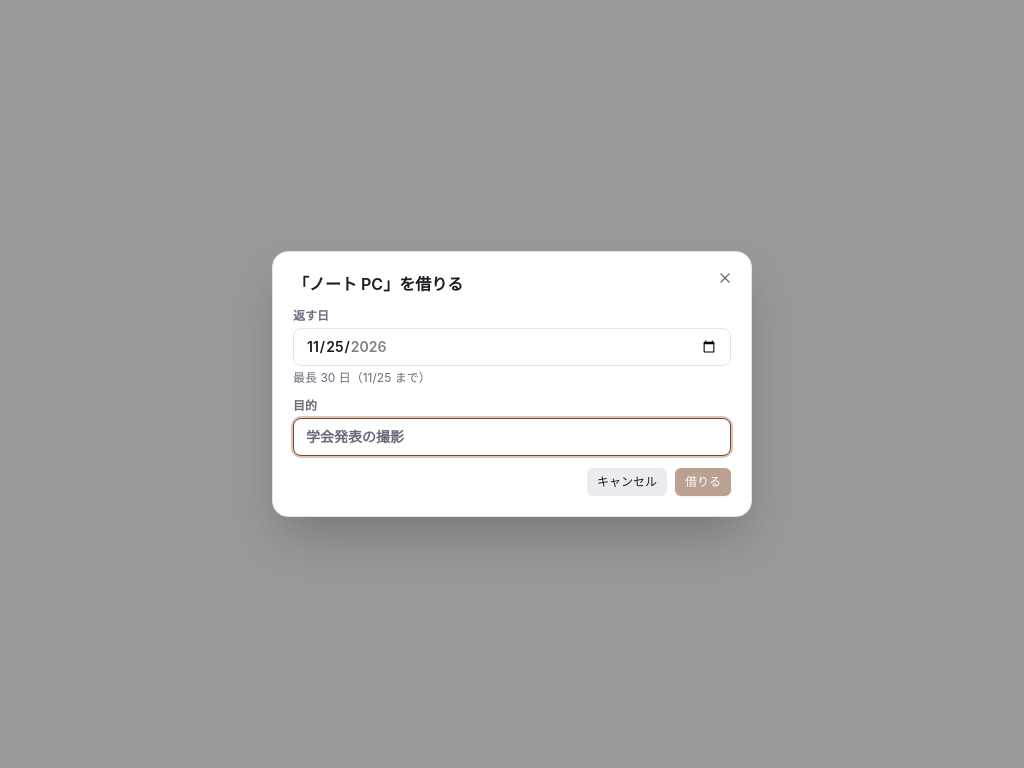
the borrow dialog › says who borrowed it first after a 409, and has the item read again
This screenshot has width=1024, height=768.
In the field labelled "目的": (512, 437) [293, 418, 731, 456], type "撮影"
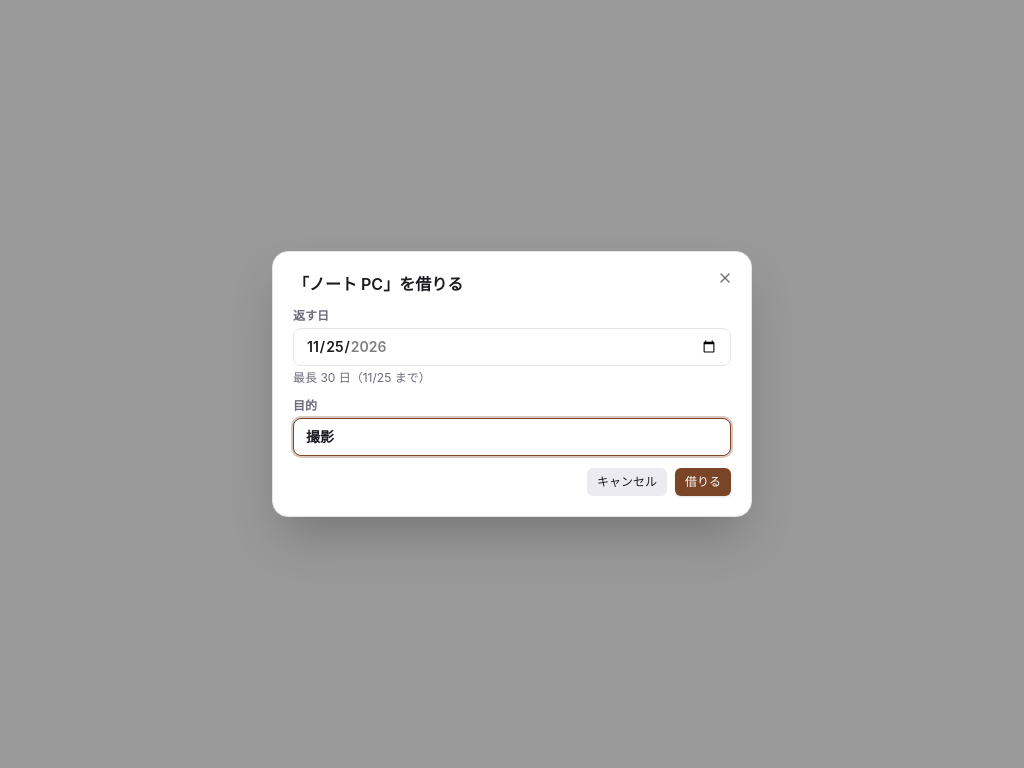
Click the button "借りる": click(703, 482) [675, 468, 731, 496]
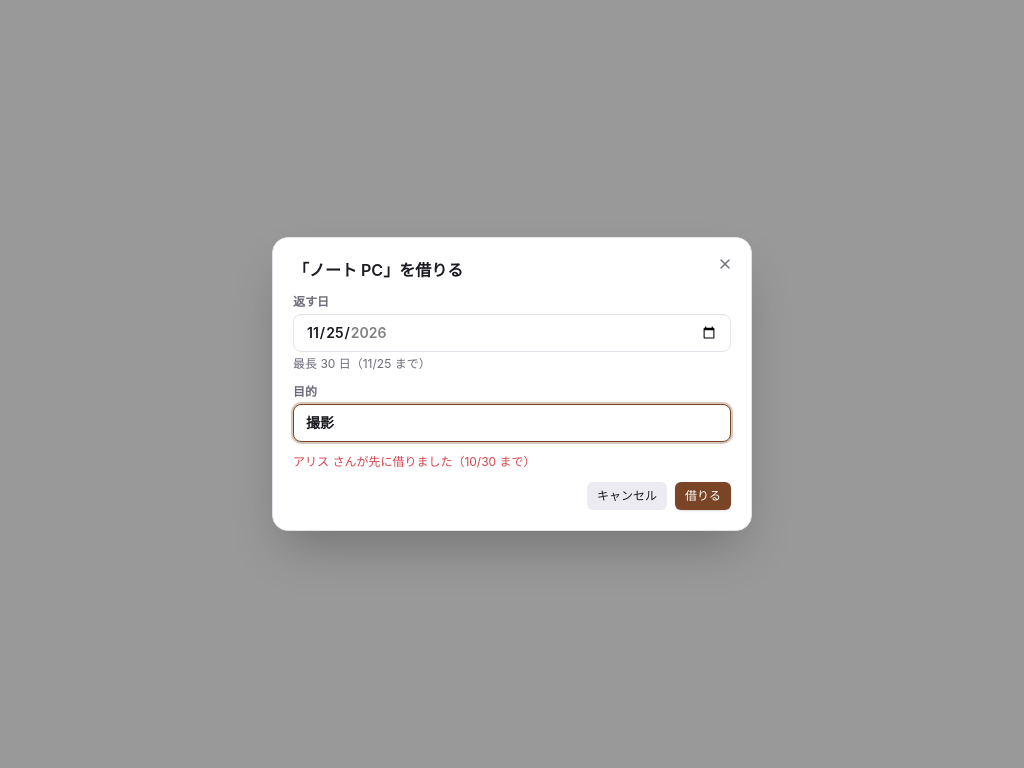
Result: the message reads "アリス さんが先に借りました（10/30 まで）" at [293, 454, 536, 469]
